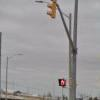Traffic light: (42, 0, 70, 30)
